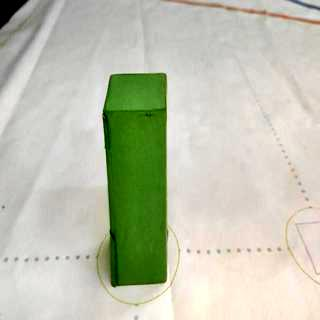greenbox: (101, 71, 174, 286)
